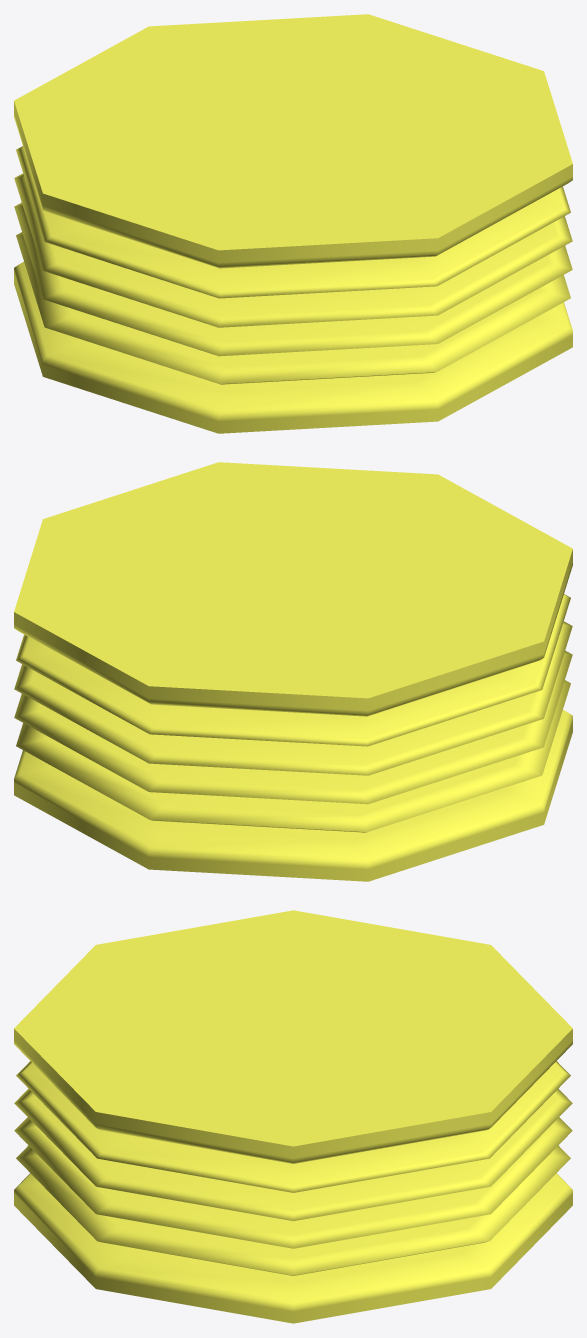
The model's file is Bane.FBX.
3 views of the same model, one above another, from view 1: azimuth 30°, elevation 25°; view 2: azimuth 150°, elevation 25°; view 3: azimuth 270°, elevation 25° (orthographic). The views are drawn at different scales.
Parts seen in each view (by area): view 1: Hose001; view 2: Hose001; view 3: Hose001.
Part boxes in pixels (x1,y1,x2,y2): Hose001: [14, 14, 572, 433]; Hose001: [14, 462, 572, 881]; Hose001: [14, 910, 572, 1323].
Size of the model in its own units: 5.72 by 2 by 5.72.
